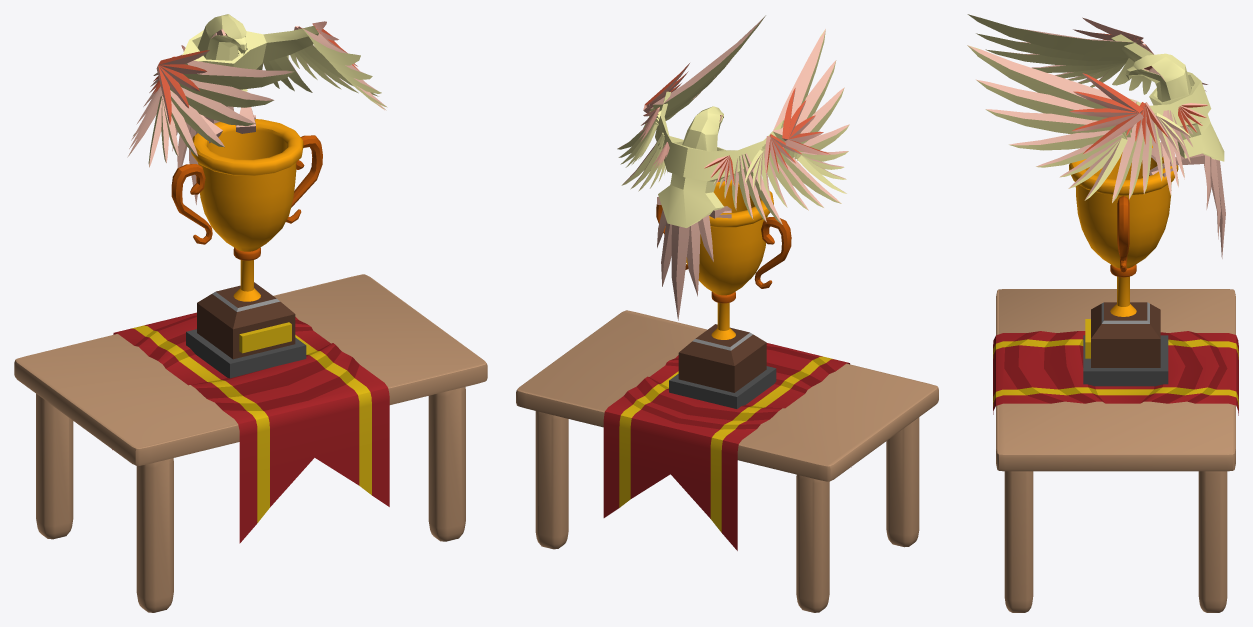
File: l_trophy_gold.glb
3 views of the same model, side by side, from view 1: azimuth 30°, elevation 25°; view 2: azimuth 150°, elevation 25°; view 3: azimuth 270°, elevation 25° (orthographic). The views are drawn at different scales.
Parts seen in each view (by area): view 1: Trophy_Gold; view 2: Trophy_Gold; view 3: Trophy_Gold.
Boxes of the visible parts, x1,y1,x2,y2 form: Trophy_Gold: (14,14,487,612); Trophy_Gold: (516,15,938,612); Trophy_Gold: (967,14,1238,612).
Bounding box in the file's own units: 1.3 × 1.85 × 0.893.
2 materials, 2 textured.
